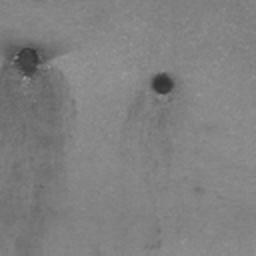Iron sheet ash: (13, 46, 40, 79), (151, 70, 173, 96)
